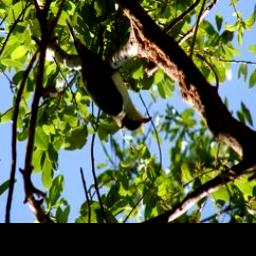Cuckoo: (67, 18, 154, 131)
